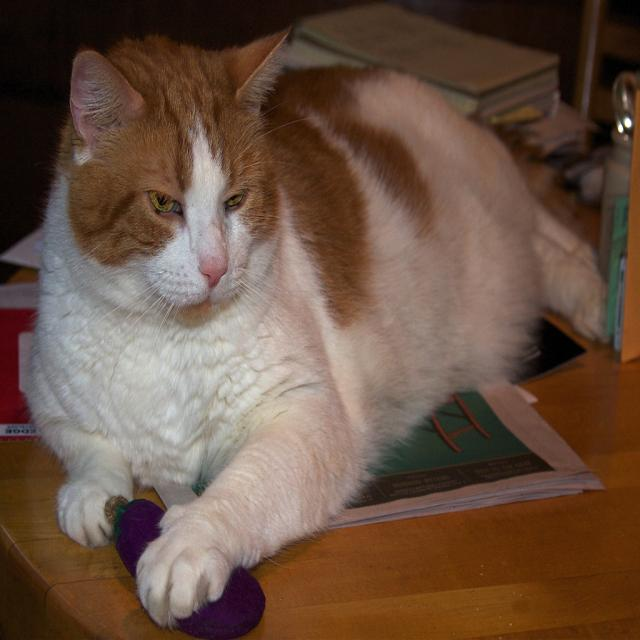Cat: (22, 22, 608, 631)
